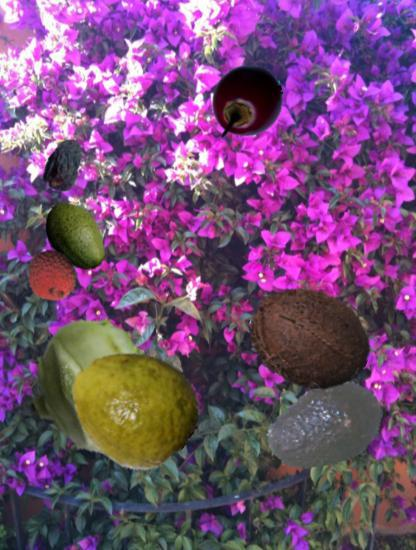Avocado: (265, 368, 385, 488), (36, 198, 115, 277)
Cocos: (248, 276, 373, 401)
Dates: (38, 139, 93, 194)
Guava: (67, 341, 199, 473)
Kohlrabi: (20, 317, 169, 466)
Lychee: (25, 249, 79, 303)
Tamarillo: (210, 64, 284, 138)
